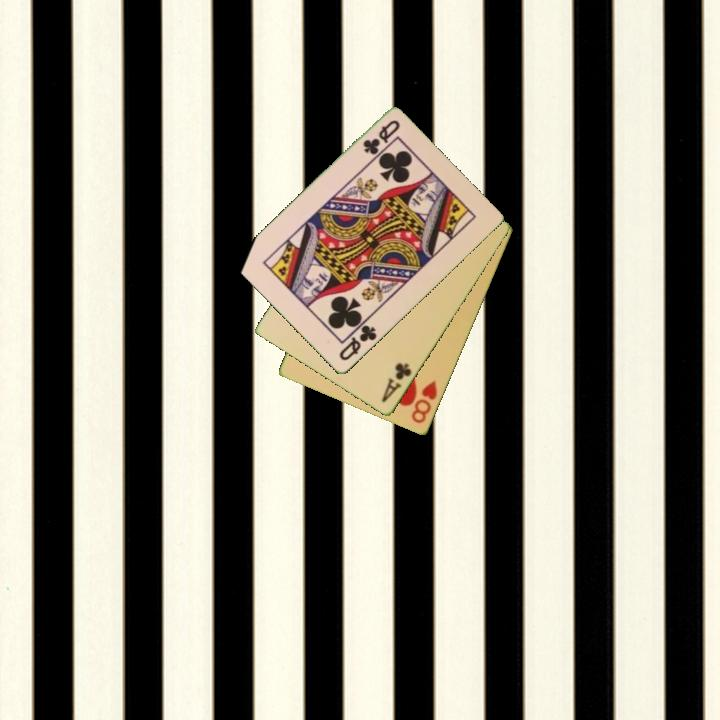8h: (408, 377, 440, 427)
Ac: (378, 359, 415, 406)
Qc: (336, 322, 380, 364), (359, 117, 403, 158)
